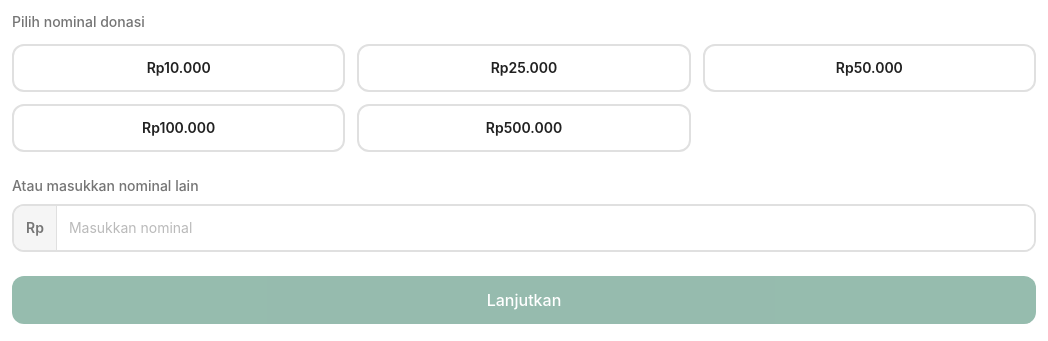
Scenario: DonationAmountSelector › formats custom input with thousand separators
Step 1. Type "1500000" into the field named "Nominal donasi custom" → x=545, y=228, box left=57, top=206, right=1034, bottom=250
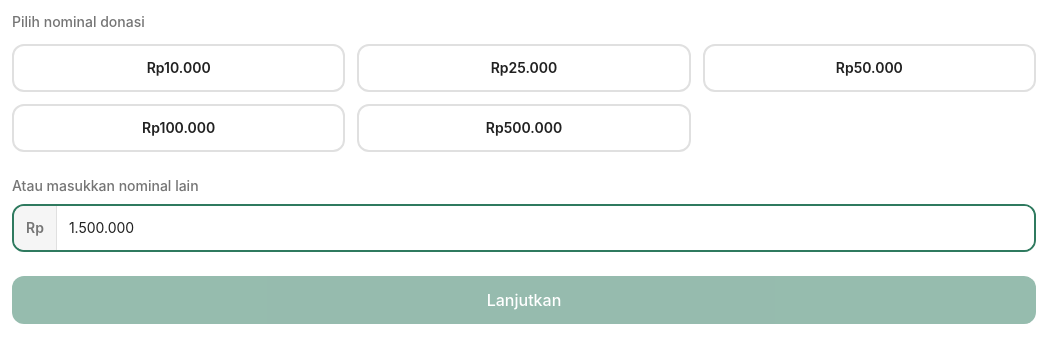
Expected: the field named "Nominal donasi custom" holds "1.500.000", left=57, top=206, right=1034, bottom=250
